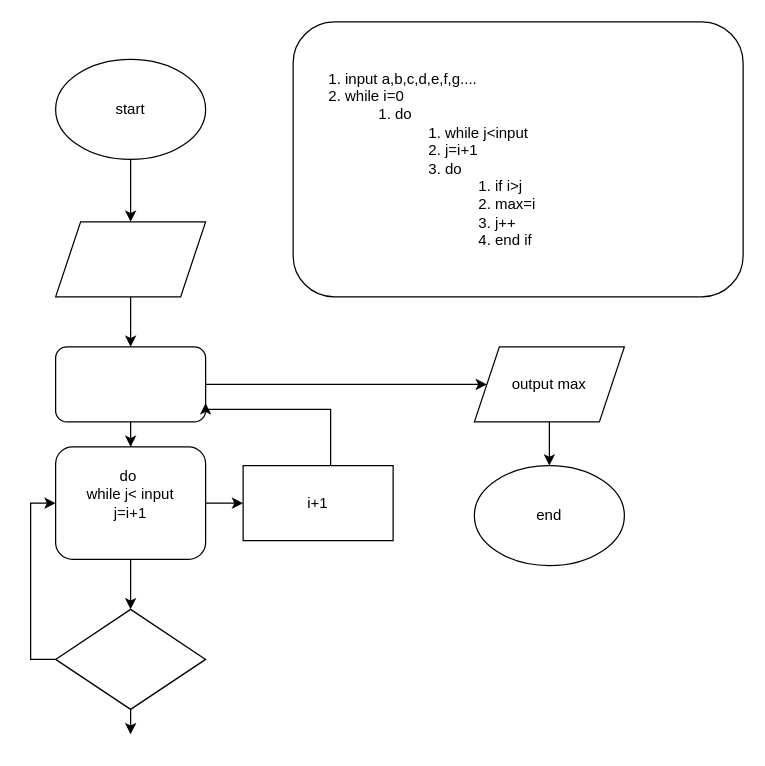
Some shapes in this 765 by 766 pixel diagram are drawn without their labels. The shapes that lost their labels are listed below. From the top down, each one's centre as x and y in pixels, then its label:
the point at 130,259: input a,b,c, d,e,f,g....
the point at 130,384: while i=0
the point at 130,658: if i>j max=i j+1
